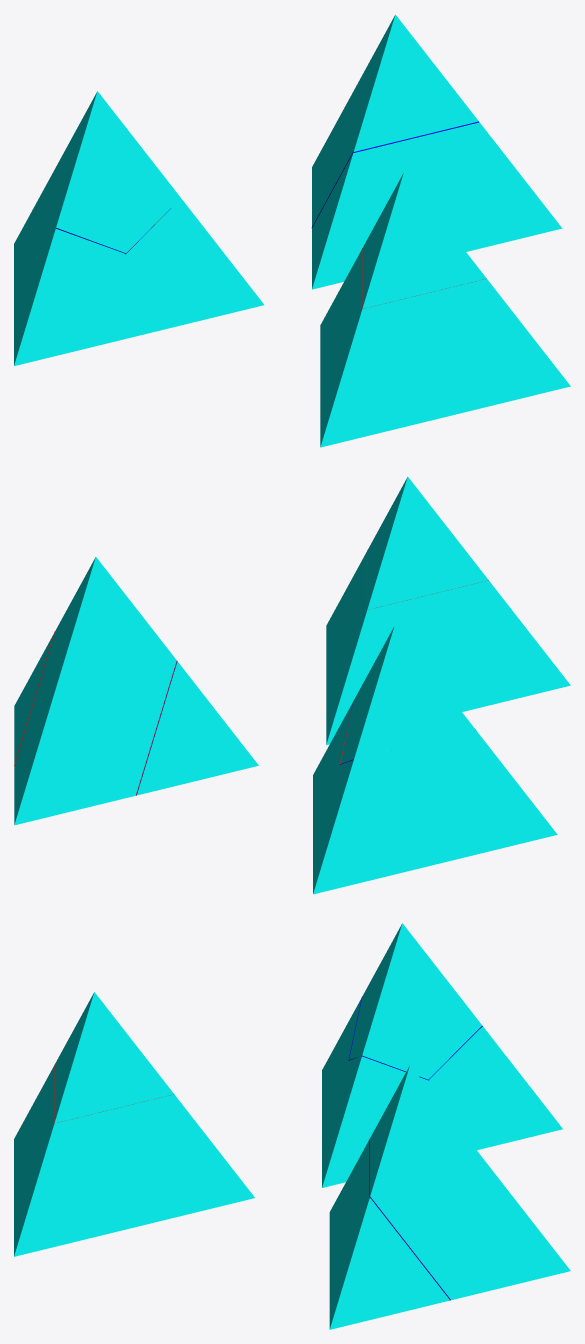
The model's file is canonical3fold.glb.
3 renders of one model, top to bottom at view 1: azimuth 30°, elevation 25°; view 2: azimuth 150°, elevation 25°; view 3: azimuth 270°, elevation 25°, orthographic. The views are drawn at different scales.
Visible parts, largest first — view 1: Circle, Circle.002, Circle.001; view 2: Circle.001, Circle.002, Circle; view 3: Circle.001, Circle, Circle.002.
Part boxes in pixels (x1,y1,x2,y2): Circle: (320,172,570,447); Circle.002: (14,91,263,365); Circle.001: (312,14,562,289); Circle.001: (14,557,258,825); Circle.002: (313,626,557,894); Circle: (326,476,570,745); Circle.001: (329,1065,570,1329); Circle: (14,992,254,1256); Circle.002: (322,923,562,1187).
Bounding box in the file's own units: 3.82 × 1.42 × 3.46.
